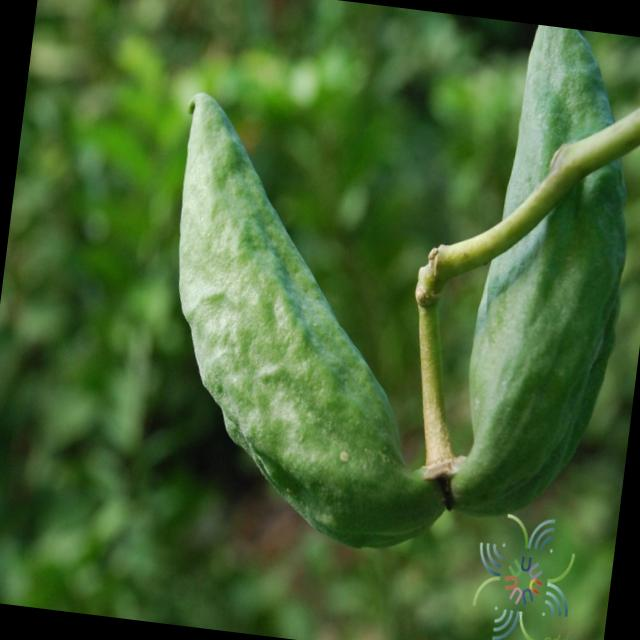Poisonous-Calatropis: (125, 0, 640, 579)
